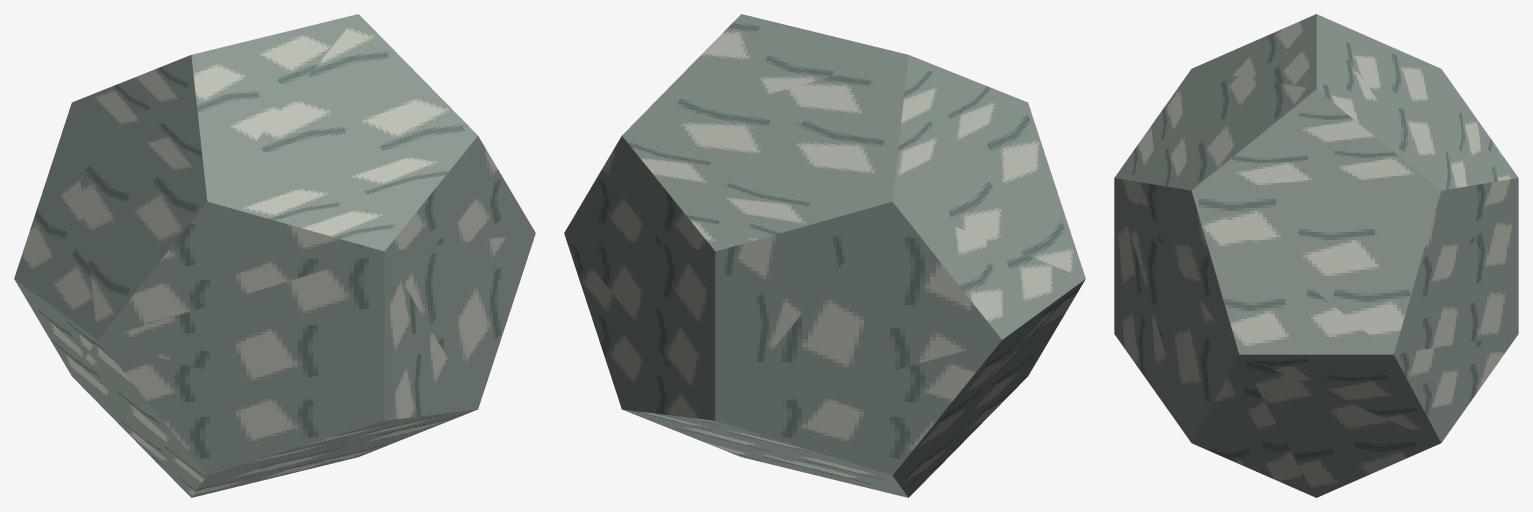
The model's file is pedra-bloco-v01.gltf.
The picture shows the model from 3 angles, left to right: view 1: azimuth 30°, elevation 25°; view 2: azimuth 150°, elevation 25°; view 3: azimuth 270°, elevation 25°; orthographic projection. The views are drawn at different scales.
Parts seen in each view (by area): view 1: forma; view 2: forma; view 3: forma.
Boxes of the visible parts, <box> form: forma: <box>14,14,535,497</box>; forma: <box>564,14,1085,497</box>; forma: <box>1114,14,1518,497</box>.
Bounding box in the file's own units: 1.12 × 1.08 × 0.9715.
1 material, 1 textured.
